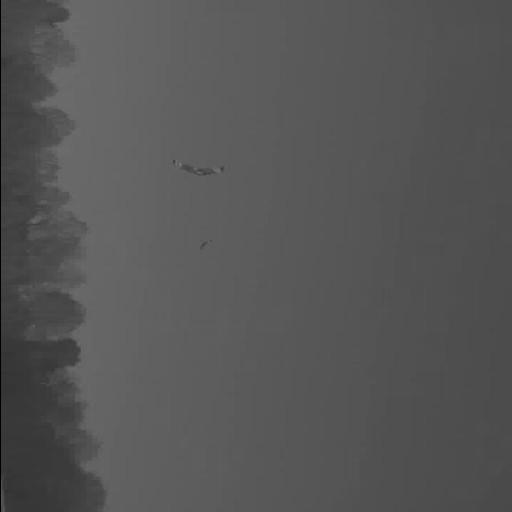uav: (163, 158, 226, 182)
